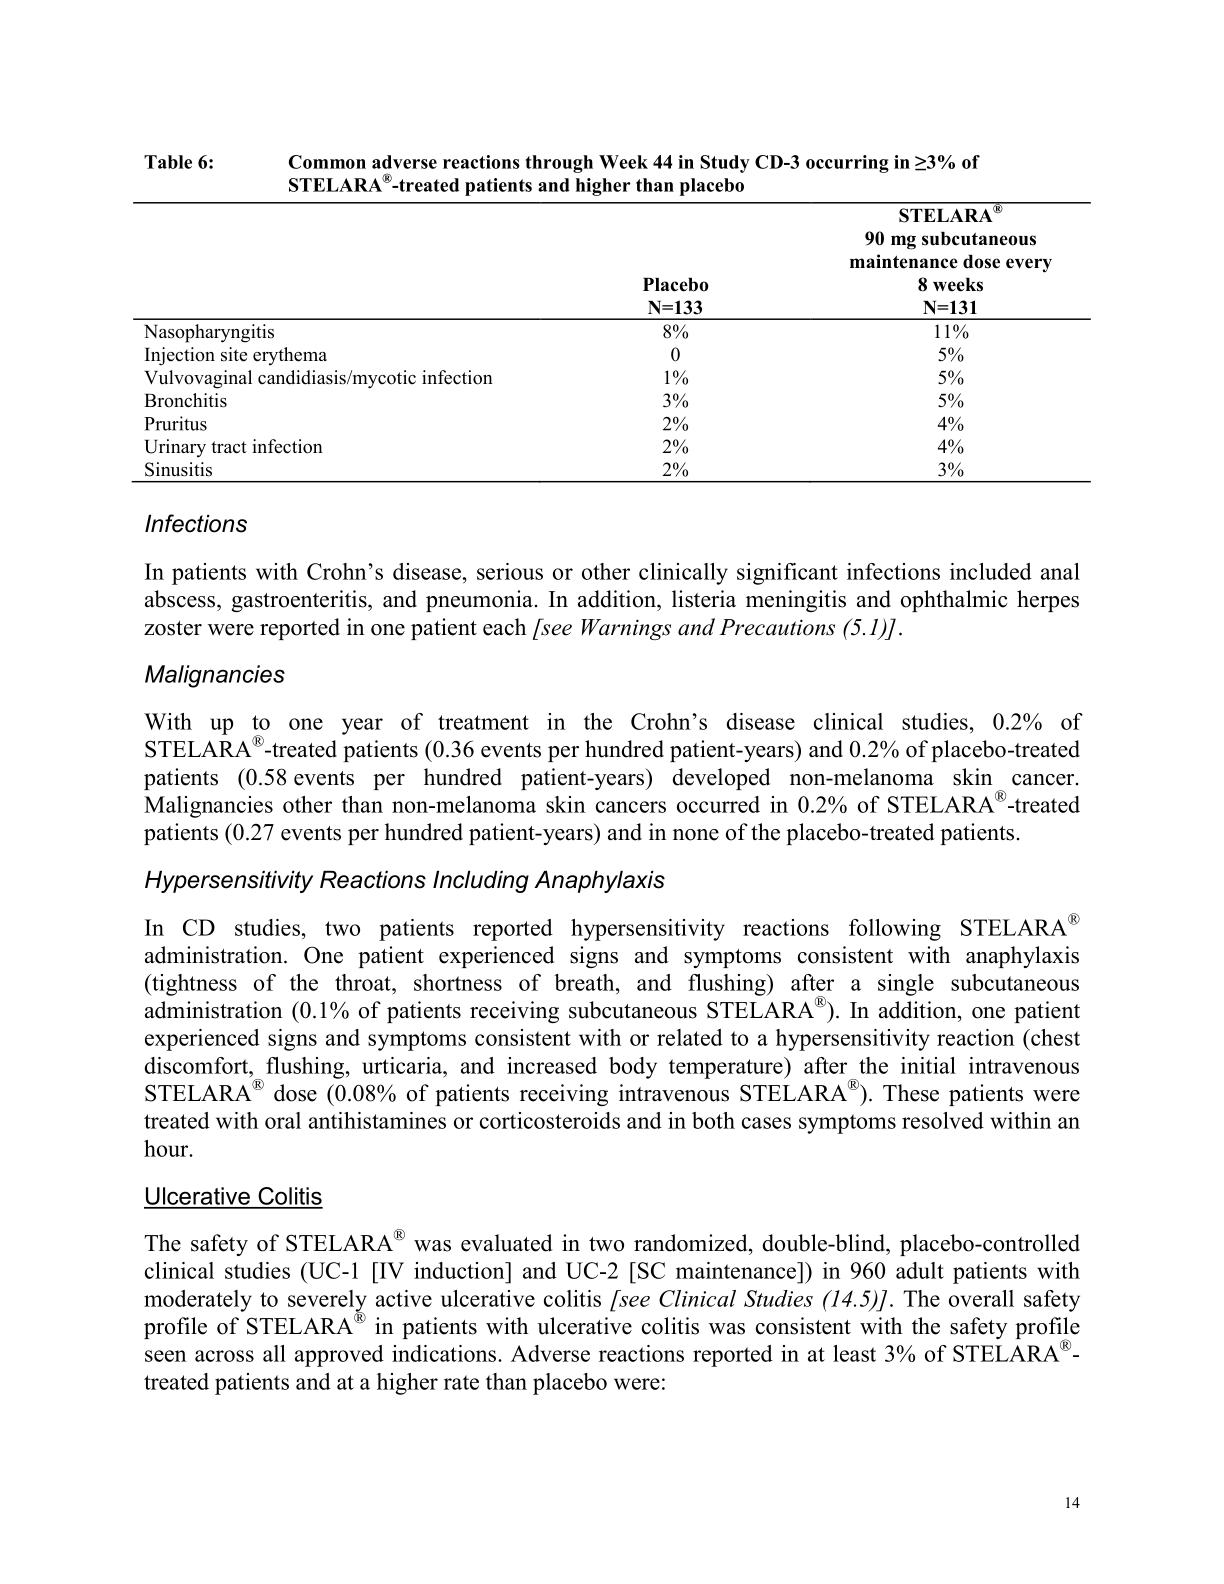partial_lined: (130, 201, 1094, 485)
